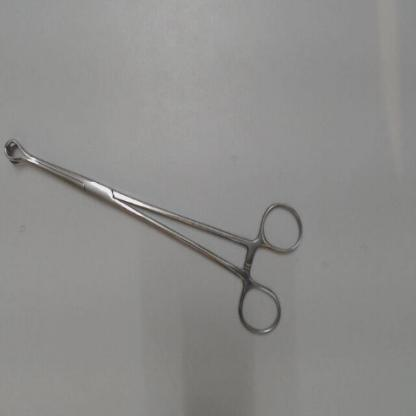8 Babcock Tissue Forceps: (2, 131, 313, 350)
